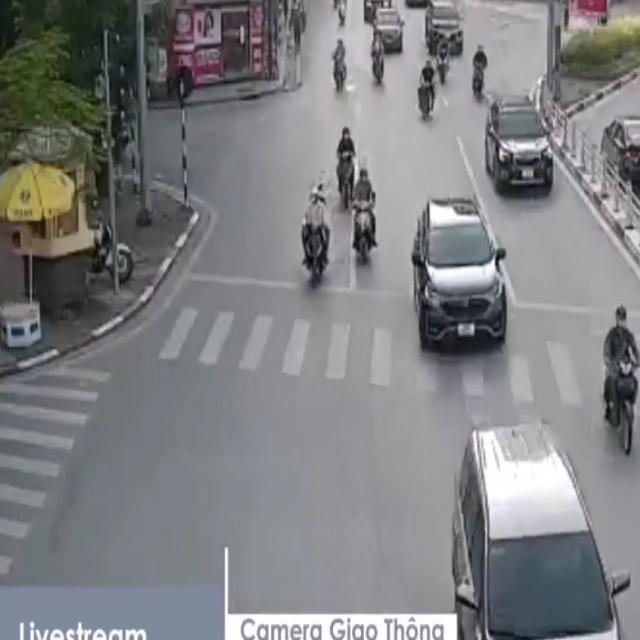car: (447, 418, 632, 640), (412, 197, 511, 351), (487, 98, 554, 194)
motorbike: (597, 298, 640, 457), (299, 179, 335, 292), (351, 165, 378, 265), (335, 124, 358, 212), (415, 56, 438, 126), (470, 42, 486, 99)
